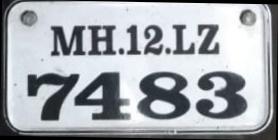character: (73, 71, 130, 121), (26, 72, 80, 121), (194, 70, 247, 119), (137, 71, 190, 119), (49, 25, 87, 56), (87, 24, 117, 55), (171, 23, 196, 55), (196, 22, 220, 54), (142, 24, 164, 55), (125, 23, 140, 55)
